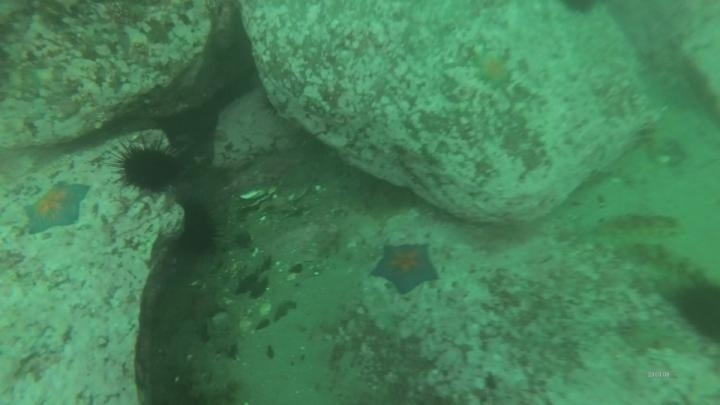echinus: (112, 141, 184, 195), (673, 278, 720, 344), (177, 199, 221, 258), (559, 0, 600, 18)
holothurian: (620, 236, 711, 285), (583, 209, 682, 243)
starfish: (21, 180, 93, 236), (368, 241, 441, 296), (471, 47, 515, 90), (180, 287, 226, 325)
